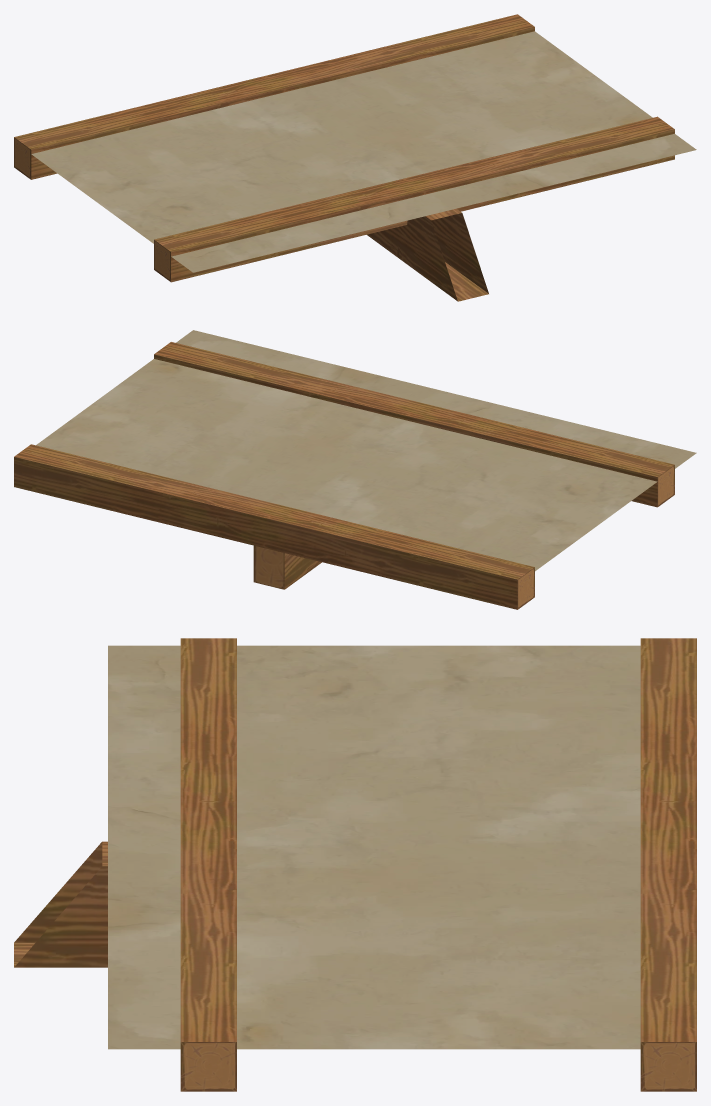
Rendered from Overhang_RoofIncline_Plaster.glb.
3 views of the same model, one above another, from view 1: azimuth 30°, elevation 25°; view 2: azimuth 150°, elevation 25°; view 3: azimuth 270°, elevation 25° (orthographic). The views are drawn at different scales.
Visible parts, largest first — view 1: Overhang_RoofIncline_Plaster; view 2: Overhang_RoofIncline_Plaster; view 3: Overhang_RoofIncline_Plaster.
Part boxes in pixels (<box>): Overhang_RoofIncline_Plaster: <box>14,14,696,301</box>; Overhang_RoofIncline_Plaster: <box>14,330,696,609</box>; Overhang_RoofIncline_Plaster: <box>14,638,696,1091</box>.
Bounding box in the file's own units: 2 × 0.2659 × 1.43.
Materials: 2 (2 with a texture image).
